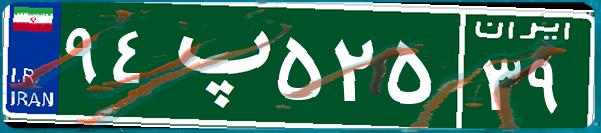2: (330, 28, 385, 110)
3: (475, 38, 525, 113)
4: (110, 28, 158, 105)
5: (385, 28, 445, 110), (273, 28, 330, 110)
9: (57, 26, 110, 107), (525, 38, 570, 115)
پ: (158, 15, 273, 115)
